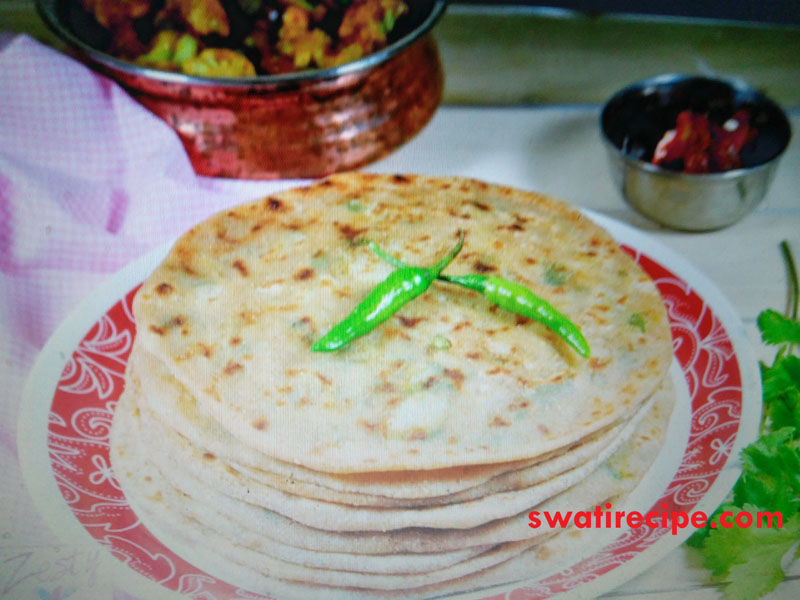aloo_paratha: (105, 166, 682, 597)
